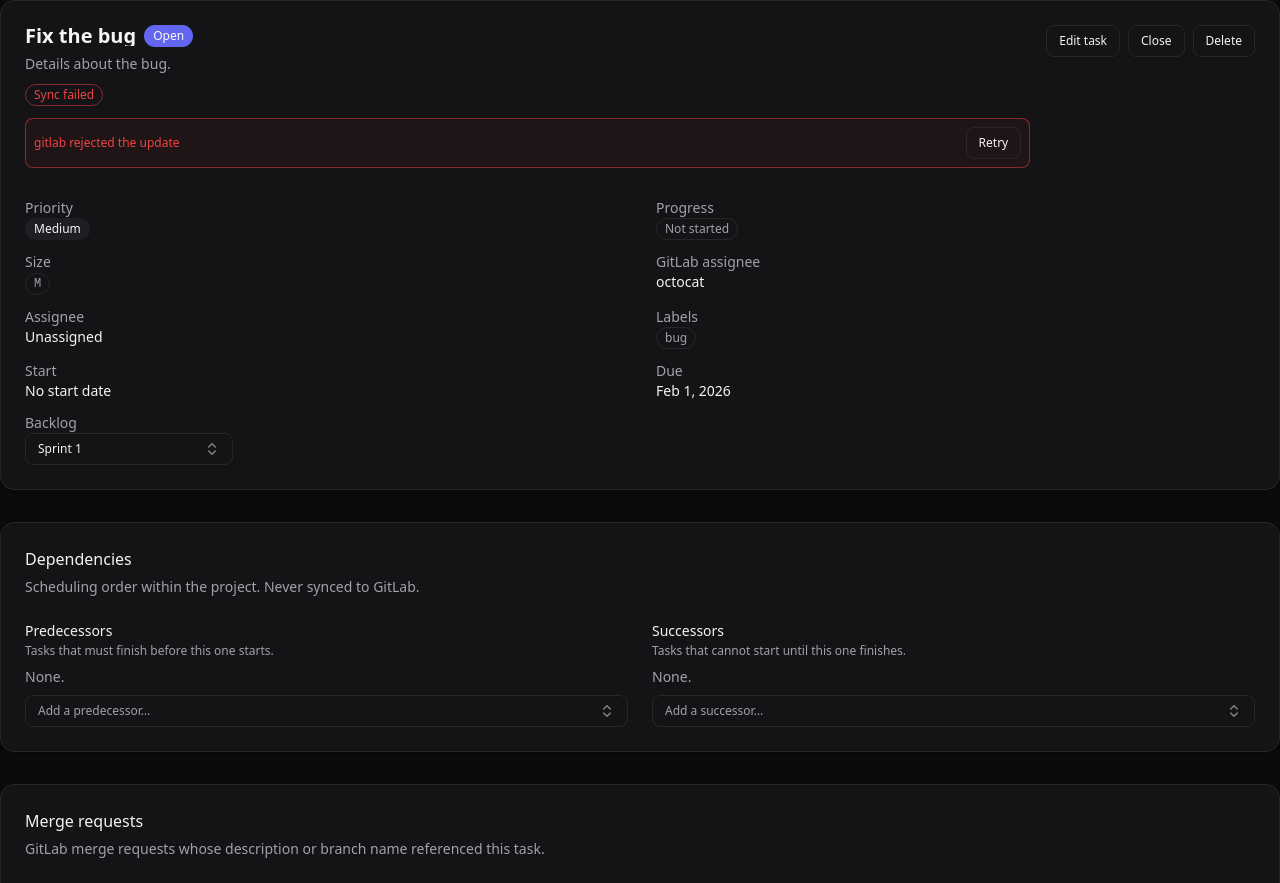
Test: TaskDetail › retries a failed sync
Step 1. Click the button "Retry" → (993, 143), box [966, 127, 1021, 159]
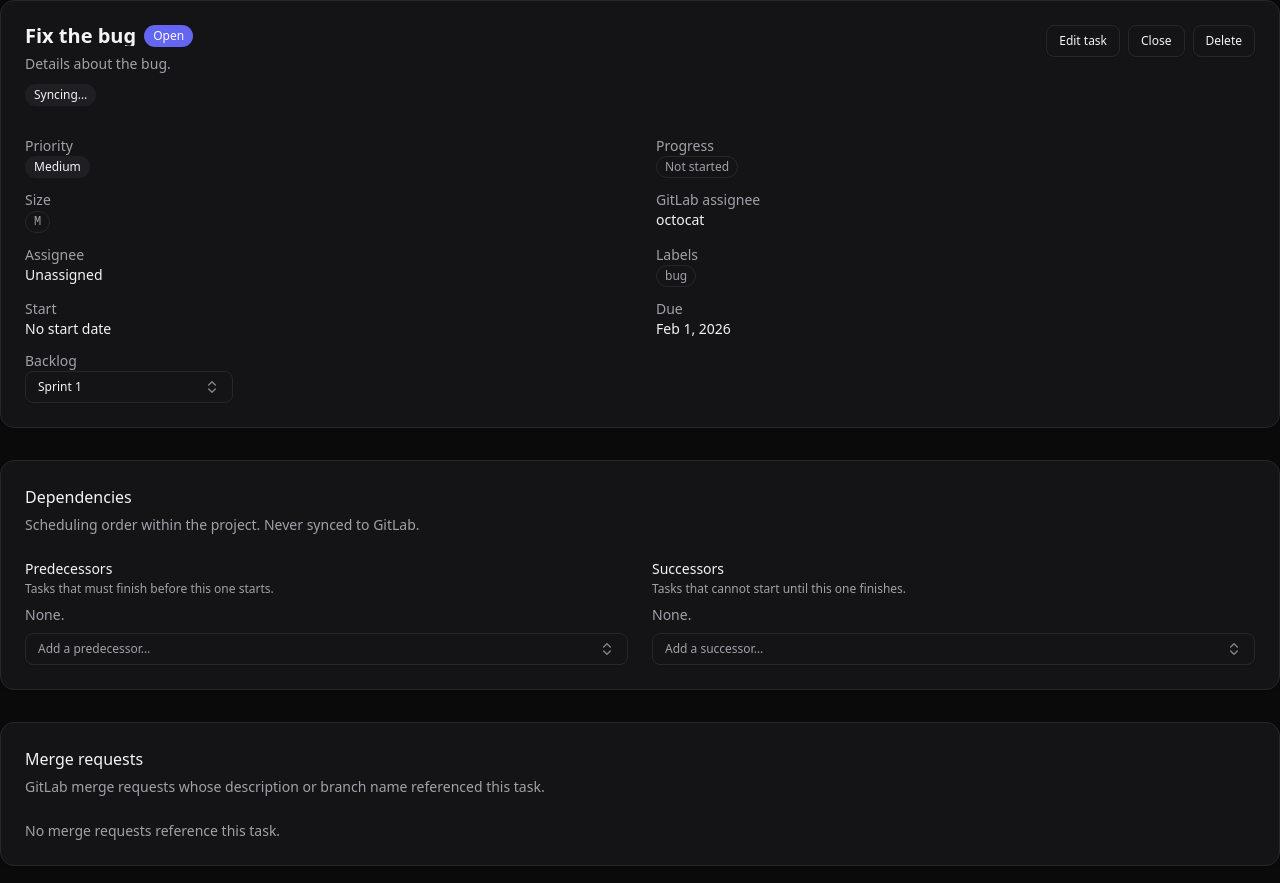
Expected: the text "Syncing…" is shown, [25, 84, 96, 106]
